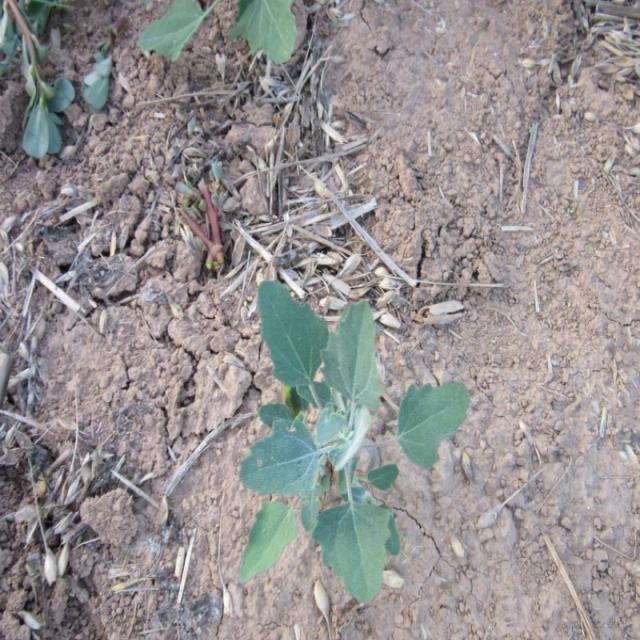ca: (240, 272, 472, 608)
